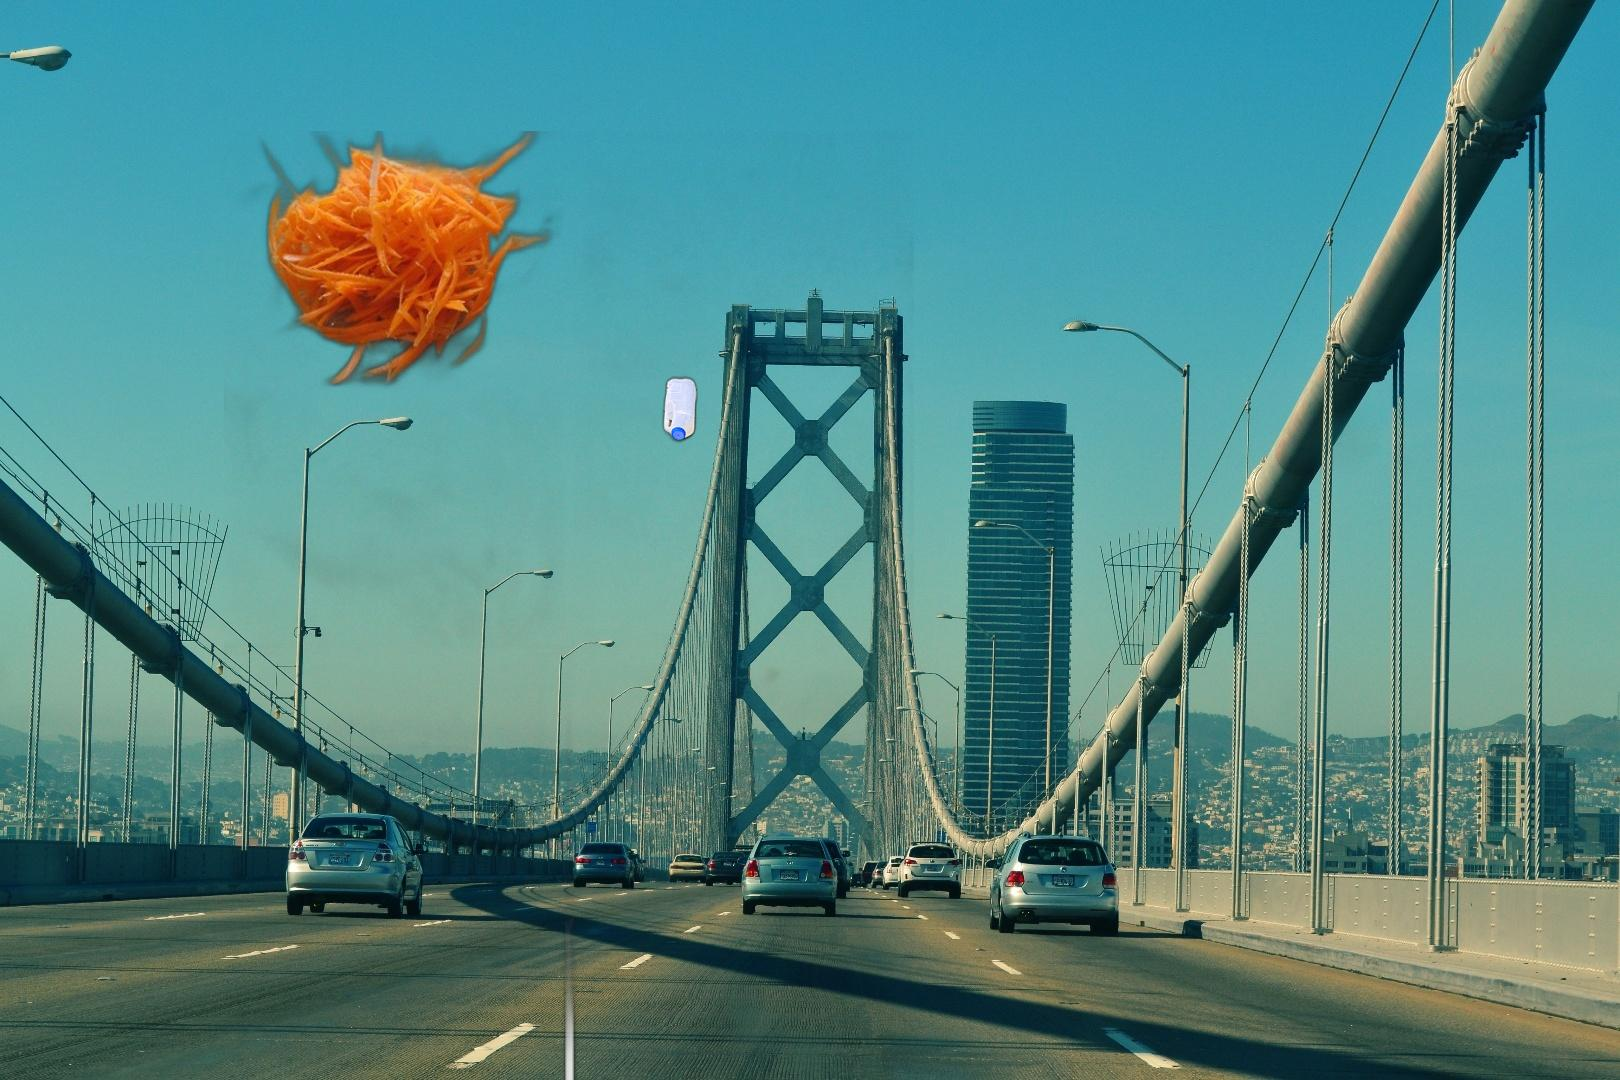battery: (1615, 628, 1620, 822)
biological: (224, 131, 914, 1080)
plastic-bottles: (659, 227, 835, 910)
